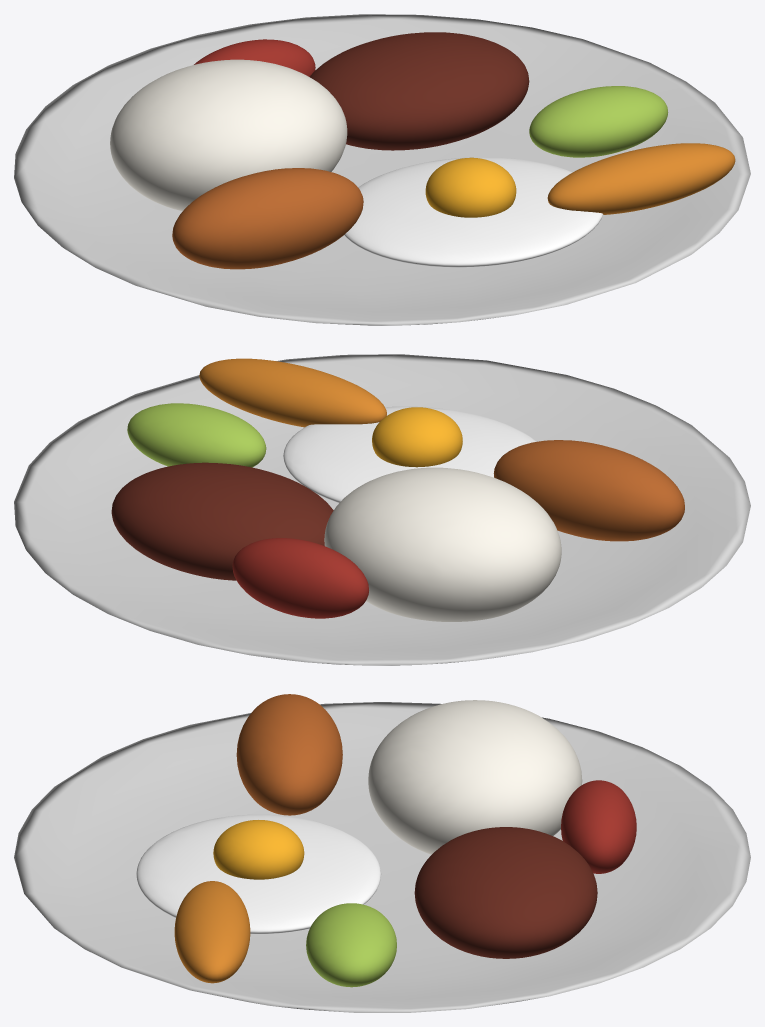
File: comida_bandeja_paisa.glb
The picture shows the model from 3 angles, top to bottom: view 1: azimuth 30°, elevation 25°; view 2: azimuth 150°, elevation 25°; view 3: azimuth 270°, elevation 25°; orthographic projection.
Visible parts, largest first — view 1: plato.008, arroz.001, fríjoles.001, clara.001, chicharrón.001, maduro.001, aguacate.001, yema.001, chorizo.001; view 2: plato.008, arroz.001, fríjoles.001, chicharrón.001, clara.001, maduro.001, chorizo.001, aguacate.001, yema.001; view 3: plato.008, arroz.001, fríjoles.001, clara.001, chicharrón.001, maduro.001, aguacate.001, chorizo.001, yema.001.
Boxes of the visible parts, x1,y1,x2,y2 form: plato.008: (14,14,750,325); arroz.001: (110,59,347,210); fríjoles.001: (310,32,529,150); clara.001: (344,157,603,267); chicharrón.001: (172,168,363,269); maduro.001: (547,143,735,214); aguacate.001: (529,86,668,157); yema.001: (425,157,516,217); chorizo.001: (194,39,315,76); plato.008: (14,354,750,665); arroz.001: (324,467,561,621); fríjoles.001: (111,462,333,580); chicharrón.001: (493,440,684,541); clara.001: (283,406,536,502); maduro.001: (199,358,386,427); chorizo.001: (232,538,368,618); aguacate.001: (127,403,266,467); yema.001: (372,407,462,467); plato.008: (14,702,750,1012); arroz.001: (368,700,582,854); fríjoles.001: (414,827,597,958); clara.001: (136,814,381,933); chicharrón.001: (236,694,342,815); maduro.001: (174,881,250,983); aguacate.001: (306,903,396,987); chorizo.001: (561,780,636,873); yema.001: (213,820,304,879).
Bounding box in the file's own units: 0.4761 × 0.0891 × 0.4768.
